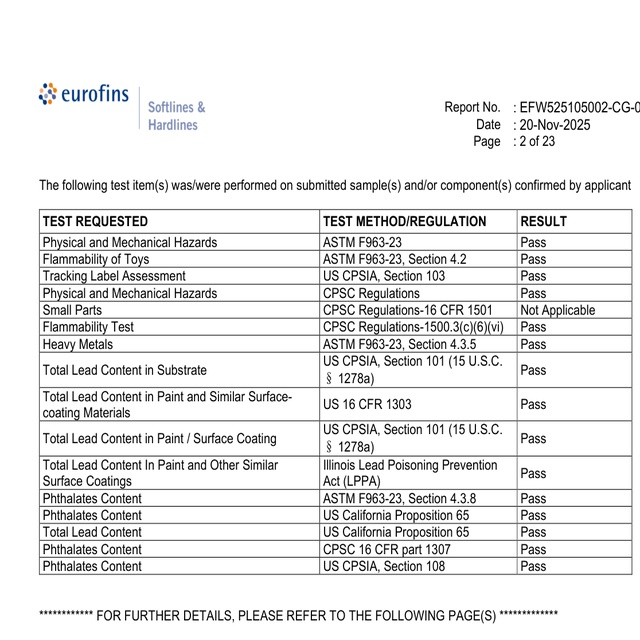eurofins: (36, 78, 133, 108)
